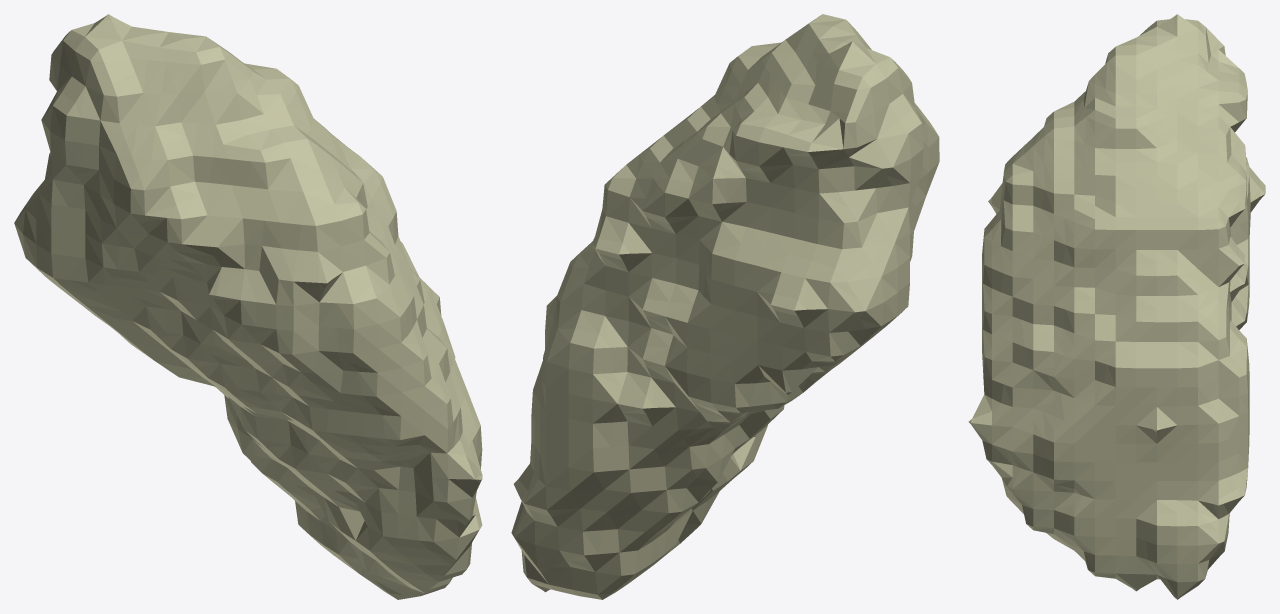
The model's file is r_pallidum.glb.
3 views of the same model, side by side, from view 1: azimuth 30°, elevation 25°; view 2: azimuth 150°, elevation 25°; view 3: azimuth 270°, elevation 25° (orthographic). The views are drawn at different scales.
Visible parts, largest first — view 1: world; view 2: world; view 3: world.
Boxes of the visible parts, <box> form: world: <box>14,14,482,599</box>; world: <box>511,14,939,599</box>; world: <box>968,14,1265,599</box>.
Bounding box in the file's own units: 16 × 25.33 × 14.42.
